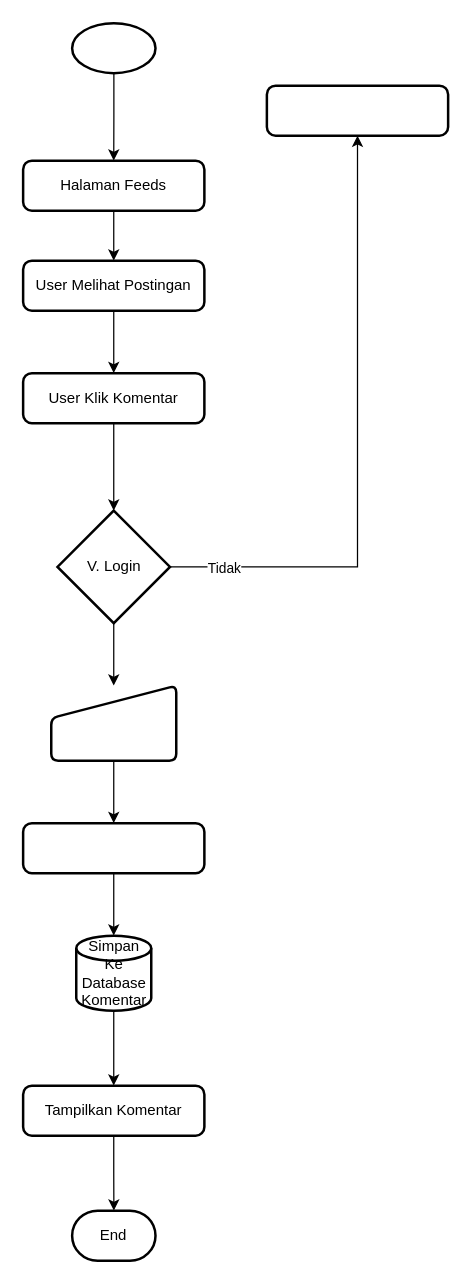
Some shapes in this 470 by 1283 pixel diagram are drawn without their labels. Here are the shapes that lost their labels. From the top down, the centre of each, then its label:
point (113, 47): Start
point (357, 110): Halaman Login
point (113, 722): Input Komentar
point (113, 847): Klik Su,bmit
